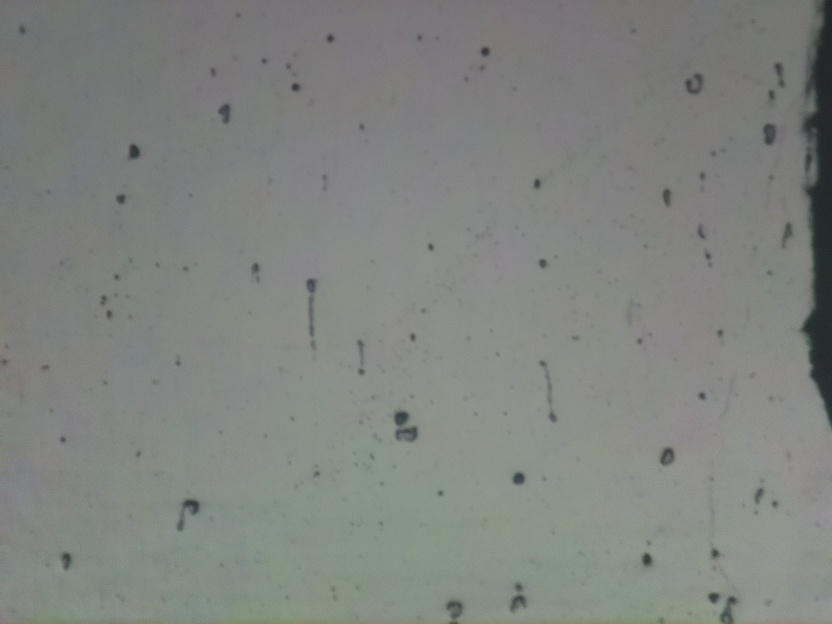crack: (799, 0, 832, 423)
